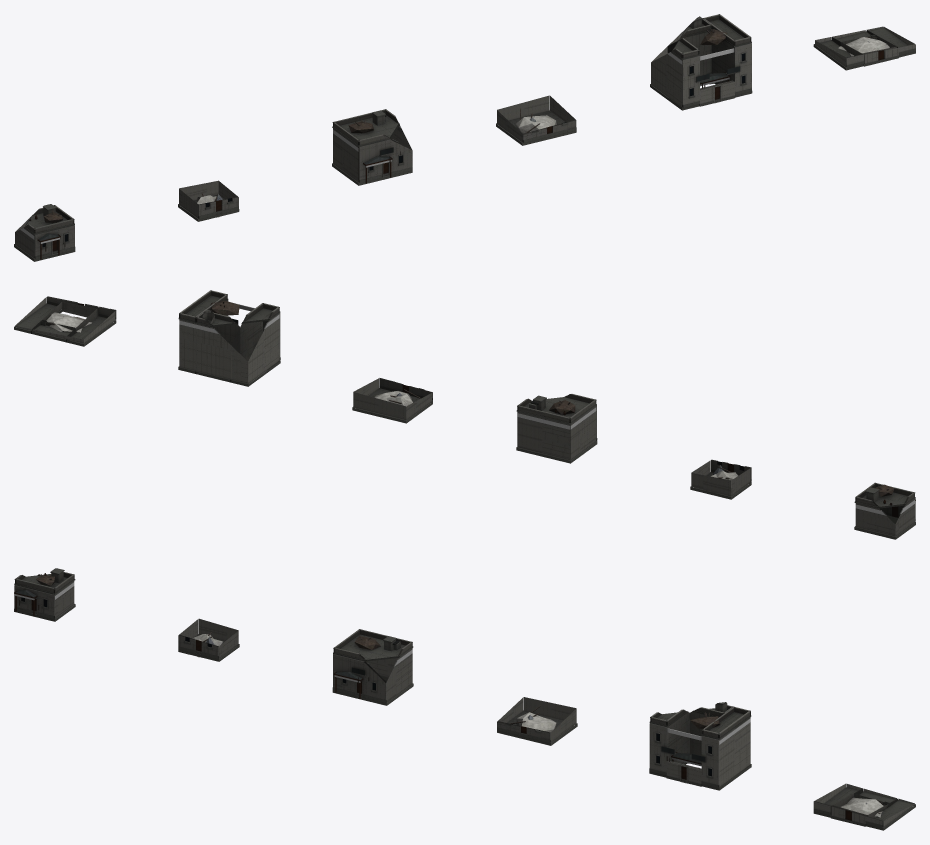
Rendered from modern-steppe-houses-damage.glb.
3 views of the same model, one above another, from view 1: azimuth 30°, elevation 25°; view 2: azimuth 150°, elevation 25°; view 3: azimuth 330°, elevation 25° (orthographic).
Parts seen in each view (by area): view 1: LOD0.004, LOD0.002, LOD0.005, LOD0.003, LOD0, LOD0.001; view 2: LOD0.004, LOD0.002, LOD0.005, LOD0, LOD0.003, LOD0.001; view 3: LOD0.004, LOD0.002, LOD0.005, LOD0.003, LOD0, LOD0.001.
Boxes of the visible parts, box(x1,y1,x2,y2) form: LOD0.004: box(650, 14, 752, 110); LOD0.002: box(332, 109, 412, 185); LOD0.005: box(813, 26, 915, 70); LOD0.003: box(496, 95, 576, 145); LOD0: box(14, 204, 75, 261); LOD0.001: box(178, 180, 239, 221); LOD0.004: box(178, 290, 280, 386); LOD0.002: box(516, 394, 597, 463); LOD0.005: box(14, 296, 116, 346); LOD0: box(854, 482, 915, 539); LOD0.003: box(352, 378, 432, 423); LOD0.001: box(690, 459, 751, 499); LOD0.004: box(649, 702, 751, 790); LOD0.002: box(332, 629, 413, 705); LOD0.005: box(813, 783, 915, 830); LOD0.003: box(497, 697, 577, 745); LOD0: box(14, 568, 75, 621); LOD0.001: box(178, 618, 239, 661).
Size of what is drawn, in the model's own units: 16.02 by 1.08 by 1.07.
Materials: 2 (2 with a texture image).
